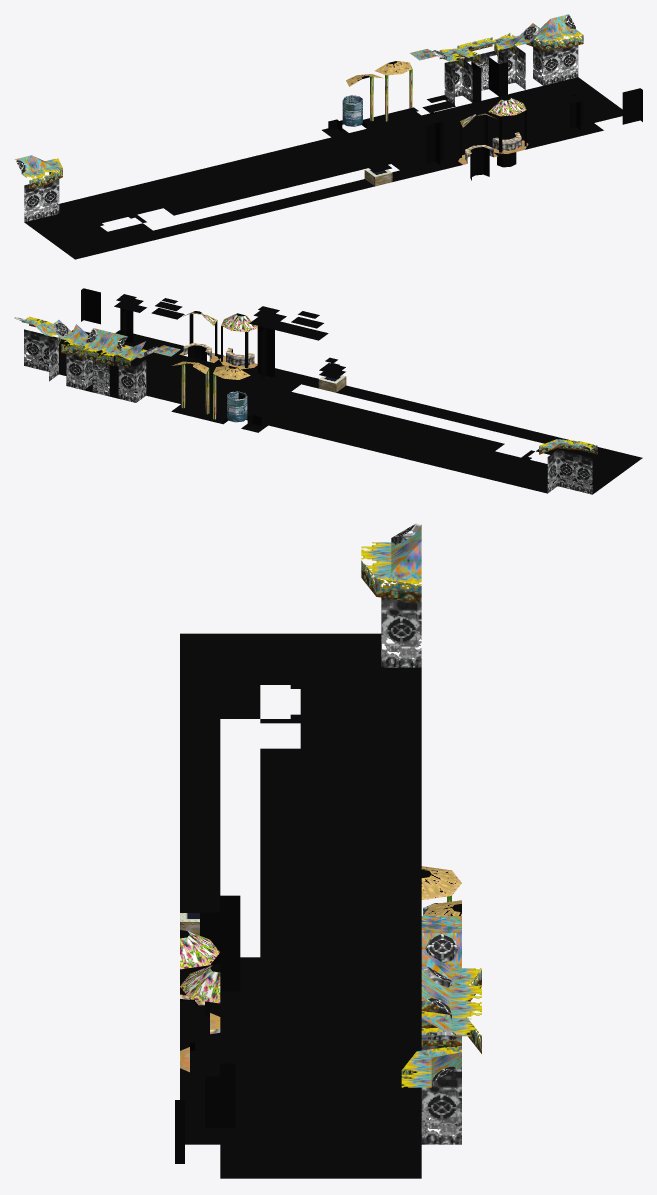
File: catalog.obj
3 views of the same model, one above another, from view 1: azimuth 30°, elevation 25°; view 2: azimuth 150°, elevation 25°; view 3: azimuth 270°, elevation 25° (orthographic). The views are drawn at different scales.
Parts seen in each view (by area): view 1: cell_1_6, cell_10_0, cell_0_6, cell_31_5, cell_4_6, cell_30_5, cell_6_6, cell_7_0, cell_12_6, cell_2_0, cell_2_6, cell_14_0 (+15 smaller); view 2: cell_30_5, cell_3_6, cell_10_0, cell_5_6, cell_6_6, cell_4_6, cell_1_6, cell_12_6, cell_31_5, cell_0_6, cell_14_0, cell_9_0 (+16 smaller); view 3: cell_30_5, cell_10_0, cell_1_6, cell_2_0, cell_6_0, cell_6_6, cell_7_6, cell_3_6, cell_31_5, cell_5_6, cell_8_0, cell_4_0 (+2 smaller).
Boxes of the visible parts, box(x1,y1,x2,y2) form: cell_1_6: box(526, 19, 565, 85); cell_10_0: box(426, 95, 462, 169); cell_0_6: box(551, 14, 583, 81); cell_31_5: box(14, 155, 46, 222); cell_4_6: box(475, 37, 507, 96); cell_30_5: box(32, 155, 62, 217); cell_6_6: box(439, 48, 481, 102); cell_7_0: box(488, 98, 515, 167); cell_12_6: box(339, 75, 366, 128); cell_2_0: box(569, 82, 603, 134); cell_2_6: box(507, 23, 542, 89); cell_14_0: box(364, 152, 392, 186); cell_30_5: box(539, 439, 580, 492); cell_3_6: box(61, 324, 93, 390); cell_10_0: box(249, 306, 275, 379); cell_5_6: box(96, 332, 127, 398); cell_6_6: box(115, 341, 145, 402); cell_4_6: box(78, 328, 110, 394); cell_1_6: box(32, 321, 61, 381); cell_12_6: box(223, 367, 250, 423); cell_31_5: box(566, 441, 597, 494); cell_0_6: box(14, 316, 46, 369); cell_14_0: box(318, 357, 346, 392); cell_9_0: box(231, 314, 257, 371); cell_30_5: box(361, 541, 421, 667); cell_10_0: box(180, 863, 240, 1008); cell_1_6: box(401, 1045, 461, 1144); cell_2_0: box(185, 1041, 235, 1144); cell_6_0: box(180, 968, 220, 1076); cell_6_6: box(421, 950, 481, 1014); cell_7_6: box(421, 933, 461, 1000); cell_3_6: box(421, 1011, 481, 1053); cell_31_5: box(361, 523, 421, 559); cell_5_6: box(421, 966, 481, 1002); cell_8_0: box(180, 934, 220, 1029); cell_4_0: box(180, 1007, 209, 1110).
Bounding box in the file's own units: 0.502 × 0.0703 × 0.1191.
36 materials, 36 textured.
